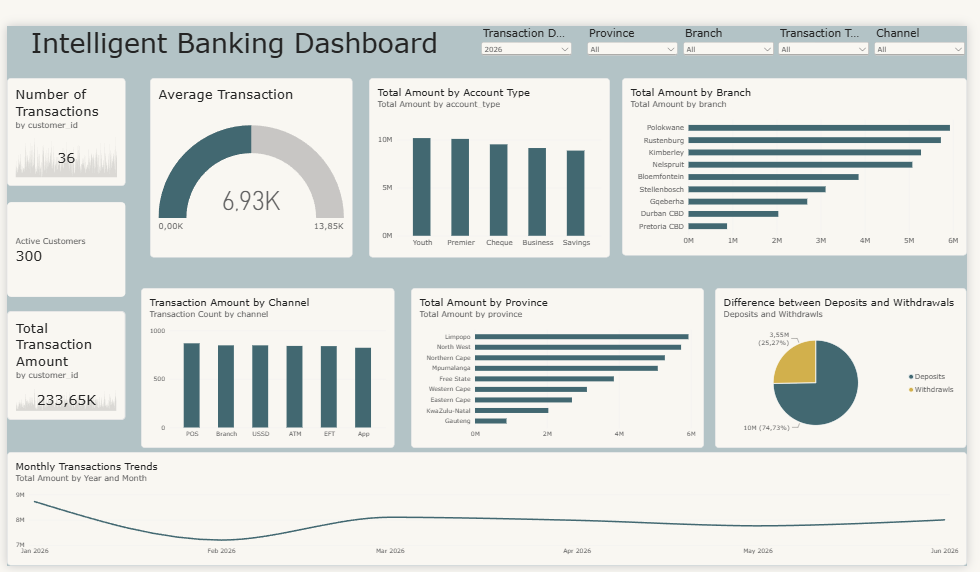

What the dashboard file says about the page in this screenshot:
{"tool":"powerbi","page":{"name":"Page 1","canvas":[1920,1080],"ordinal":0},"visuals":[{"type":"textbox","box":[0,0,890.6,79],"z":0},{"type":"kpi","fields":{"Indicator":["Dim_Transaction.Total Transaction Amount"],"TrendLine":["Dim_Transaction.customer_id"]},"box":[0,570.6,237.1,217.8],"z":1000},{"type":"kpi","fields":{"Indicator":["Dim_Transaction.Number of Transactions"],"TrendLine":["Dim_Transaction.customer_id"]},"box":[0,104.1,237.1,215.9],"z":2000},{"type":"cardVisual","fields":{"Data":["Dim_Account.Total Customers"]},"box":[0,352.8,237.1,190.8],"z":3000},{"type":"gauge","fields":{"Y":["Dim_Account.Average Transaction"]},"box":[285.3,104.1,404.8,358.6],"z":4000},{"type":"barChart","title":"Total Amount by Province","fields":{"Category":["Dim_Branch.province"],"Y":["Dim_Account.Total Amount"]},"box":[807.7,524.3,586,320],"z":5000},{"type":"barChart","title":"Total Amount by Branch","fields":{"Category":["Dim_Branch.branch"],"Y":["Dim_Account.Total Amount"]},"box":[1229.9,104.1,690.1,354.7],"z":6000},{"type":"columnChart","title":"Transaction Amount by Channel","fields":{"Category":["Dim_Channel.channel"],"Y":["Dim_Account.Transaction Count"]},"box":[268,524.3,507,320],"z":7000},{"type":"columnChart","title":"Total Amount by Account Type","fields":{"Category":["Dim_Account.account_type"],"Y":["Dim_Account.Total Amount"]},"box":[724.8,104.1,481.9,358.6],"z":8000},{"type":"lineChart","title":"Monthly Transactions Trends","fields":{"Category":["Dim_Date.transaction_date.Variation.Date Hierarchy.Year","Dim_Date.transaction_date.Variation.Date Hierarchy.Month"],"Y":["Dim_Account.Total Amount"]},"box":[0,852,1920,227.5],"z":9000},{"type":"pieChart","title":"Difference between Deposits and Withdrawals","fields":{"Y":["Dim_Account.Deposits Count","Dim_Account.Withdrawls Count"]},"box":[1416.9,524.3,503.1,320],"z":10000},{"type":"slicer","fields":{"Values":["Dim_Date.transaction_date.Variation.Date Hierarchy.Year","Dim_Date.transaction_date.Variation.Date Hierarchy.Month"]},"box":[944.6,0,190,104.1],"z":11000},{"type":"slicer","fields":{"Values":["Dim_Branch.province"]},"box":[1156.6,0,190,104.1],"z":12000},{"type":"slicer","fields":{"Values":["Dim_Branch.branch"]},"box":[1347.5,0,190.8,104.1],"z":13000},{"type":"slicer","fields":{"Values":["Dim_Channel.channel"]},"box":[1729.2,0,190.8,104.1],"z":14000},{"type":"slicer","fields":{"Values":["Dim_TransactionType.transaction_type"]},"box":[1538.3,0,190.8,104.1],"z":15000}]}

Visuals, with their boxes on the page's 1920x1080 design canvas (x1, y1, x2, y2). These are canvas units, not pixel positions in the 980x572 screenshot, which may show the page scaled, cropped or inside an application window:
textbox: (0, 0, 891, 79)
kpi - Dim_Transaction.Total Transaction Amount x Dim_Transaction.customer_id: (0, 571, 237, 788)
kpi - Dim_Transaction.Number of Transactions x Dim_Transaction.customer_id: (0, 104, 237, 320)
cardVisual - Dim_Account.Total Customers: (0, 353, 237, 544)
gauge - Dim_Account.Average Transaction: (285, 104, 690, 463)
"Total Amount by Province" barChart: (808, 524, 1394, 844)
"Total Amount by Branch" barChart: (1230, 104, 1920, 459)
"Transaction Amount by Channel" columnChart: (268, 524, 775, 844)
"Total Amount by Account Type" columnChart: (725, 104, 1207, 463)
"Monthly Transactions Trends" lineChart: (0, 852, 1920, 1080)
"Difference between Deposits and Withdrawals" pieChart: (1417, 524, 1920, 844)
slicer - Dim_Date.transaction_date.Variation.Date Hierarchy.Year x Dim_Date.transaction_date.Variation.Date Hierarchy.Month: (945, 0, 1135, 104)
slicer - Dim_Branch.province: (1157, 0, 1347, 104)
slicer - Dim_Branch.branch: (1348, 0, 1538, 104)
slicer - Dim_Channel.channel: (1729, 0, 1920, 104)
slicer - Dim_TransactionType.transaction_type: (1538, 0, 1729, 104)
